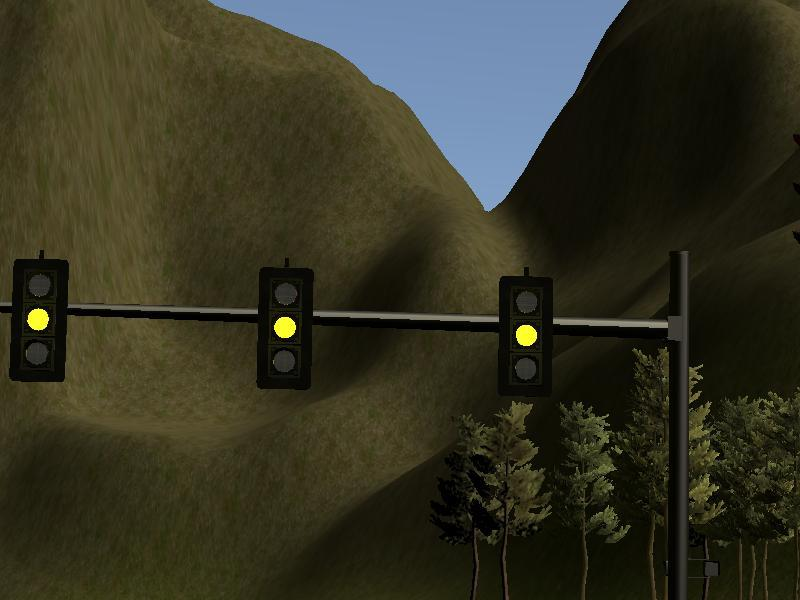Yellow: (258, 265, 312, 388), (499, 275, 553, 395), (13, 259, 66, 381)
